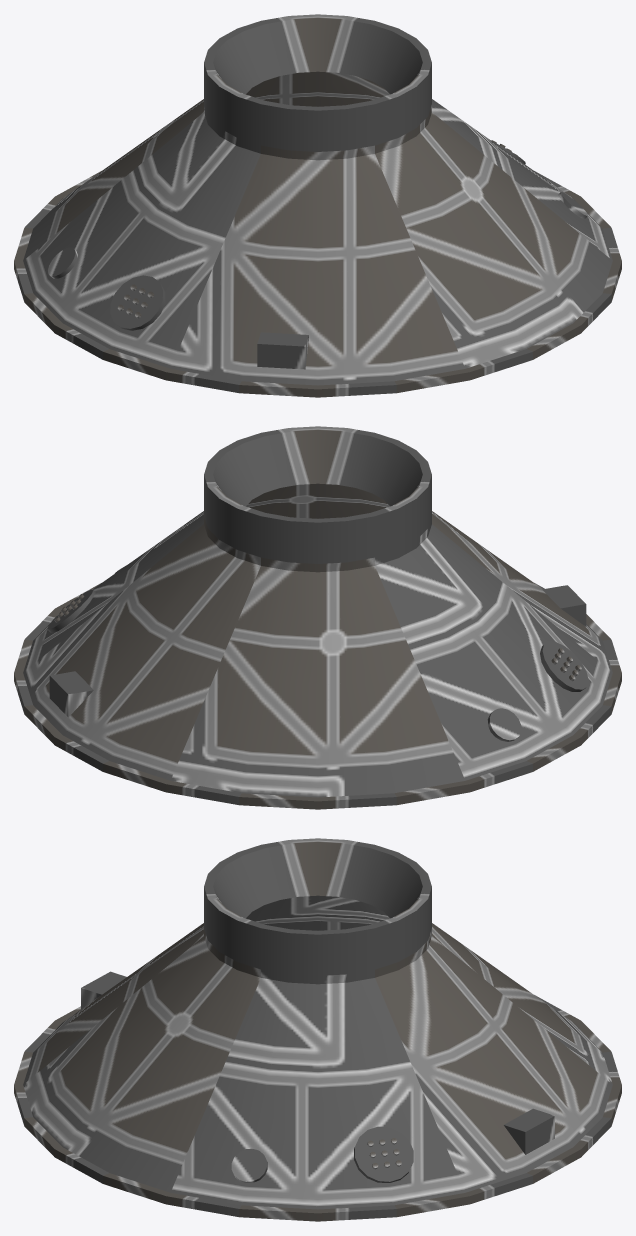
Rendered from big narrow adapter naked snoot.obj.
3 views of the same model, one above another, from view 1: azimuth 30°, elevation 25°; view 2: azimuth 150°, elevation 25°; view 3: azimuth 270°, elevation 25° (orthographic).
Visible parts, largest first — view 1: 1; view 2: 1; view 3: 1.
Boxes of the visible parts, bbox=[...] form: 1: bbox=[14, 14, 621, 397]; 1: bbox=[14, 426, 621, 809]; 1: bbox=[14, 838, 621, 1221].
Size of the model in its own units: 2.5 by 0.9375 by 2.5.
